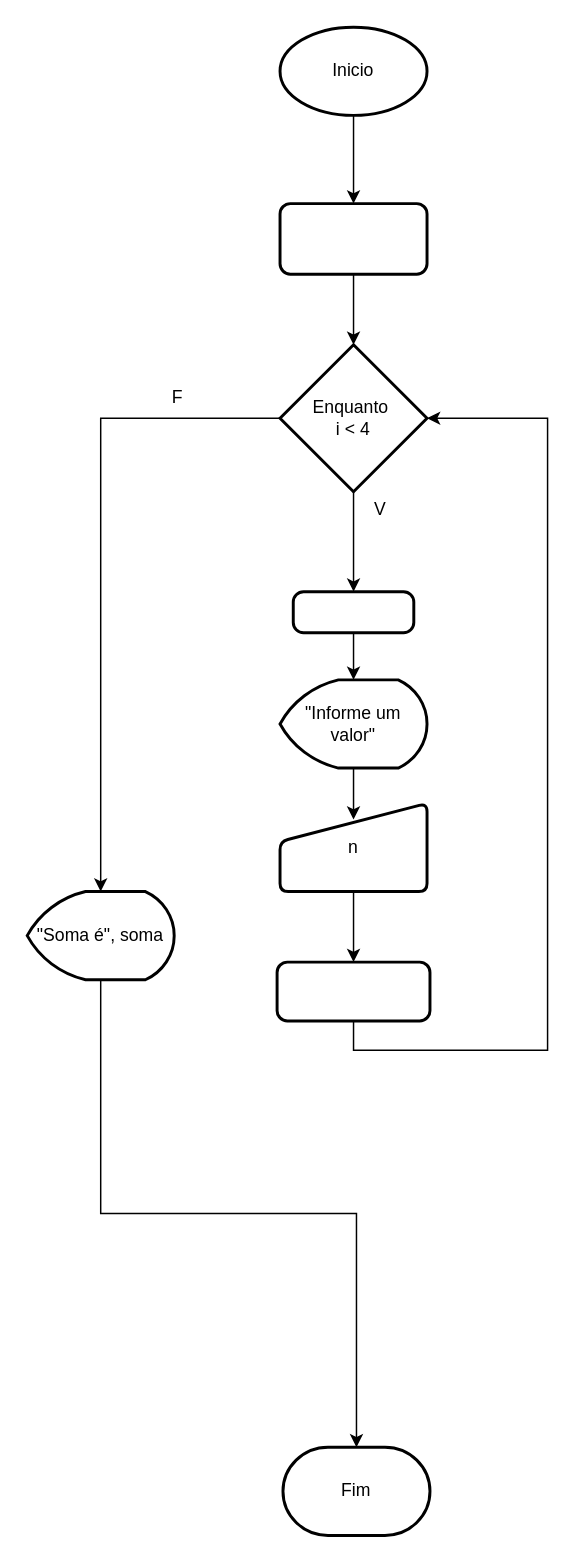
This 585x1561 diagram has some shape labels left out. Here are the shapes that lost their labels. From the top down, the centre of each, then its label:
At pixel 353 238: "i = 0 soma = 0".
At pixel 353 611: "i <- i+1".
At pixel 353 991: "soma <- soma + n".
